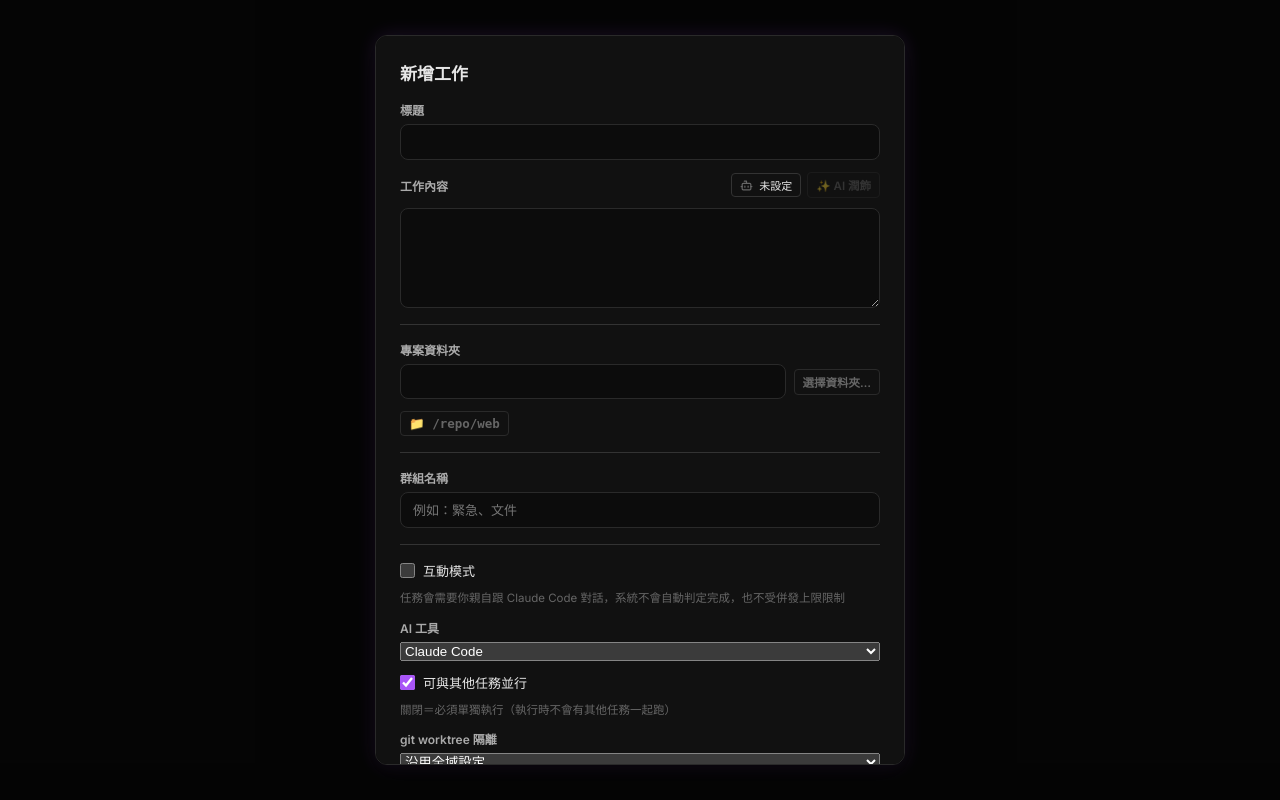
Test: TaskEditorDialog 工作目錄快捷選項 › 點快捷選項會填入目錄欄
Click the button with test id "used-dir-/repo/web": (454, 424) [400, 411, 509, 436]
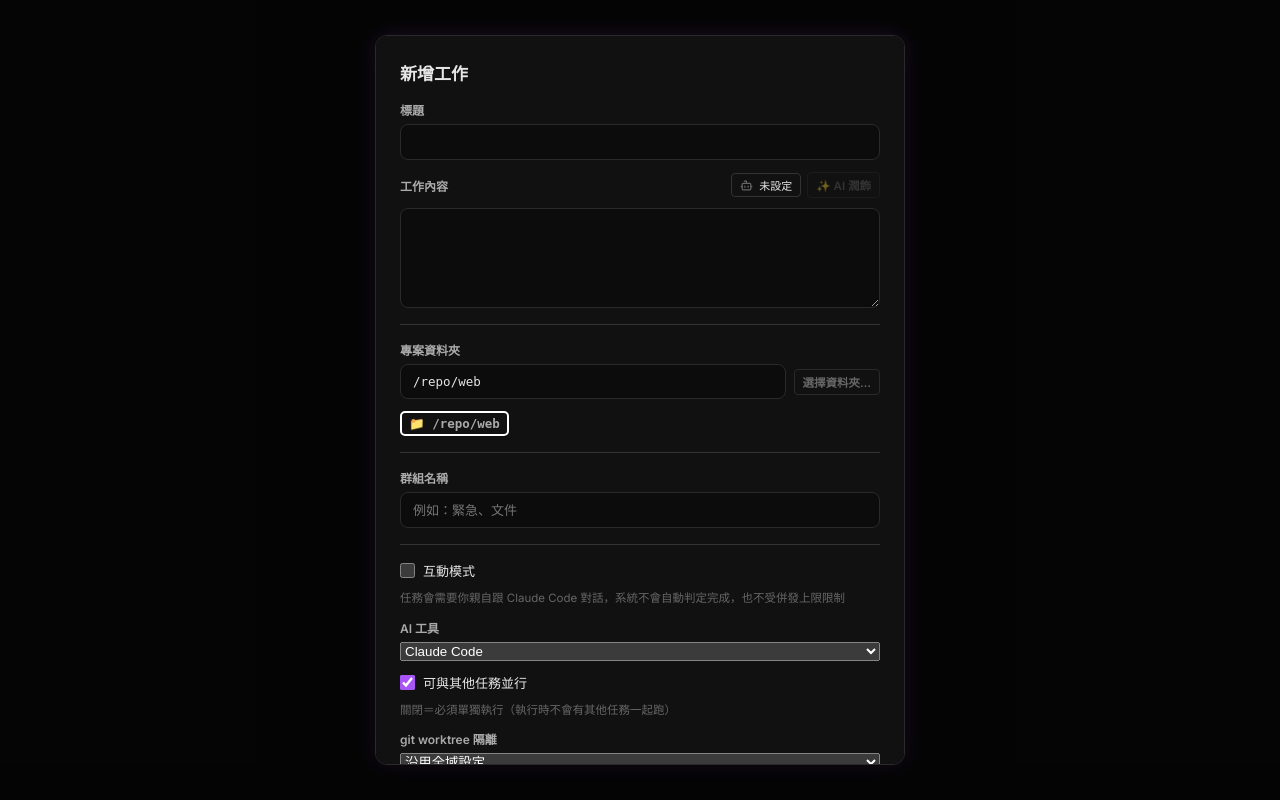
Expected: the field with test id "task-dir-input" holds "/repo/web", [400, 364, 786, 399]
